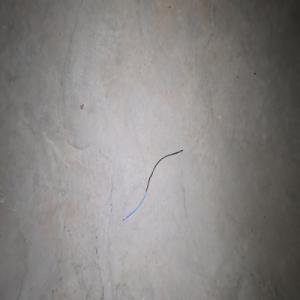Wire: (122, 149, 183, 221)
